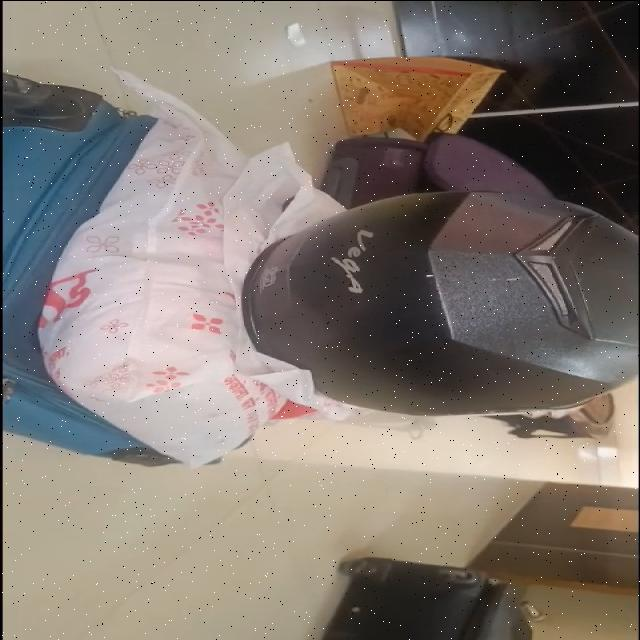Helmet: (233, 187, 635, 418)
